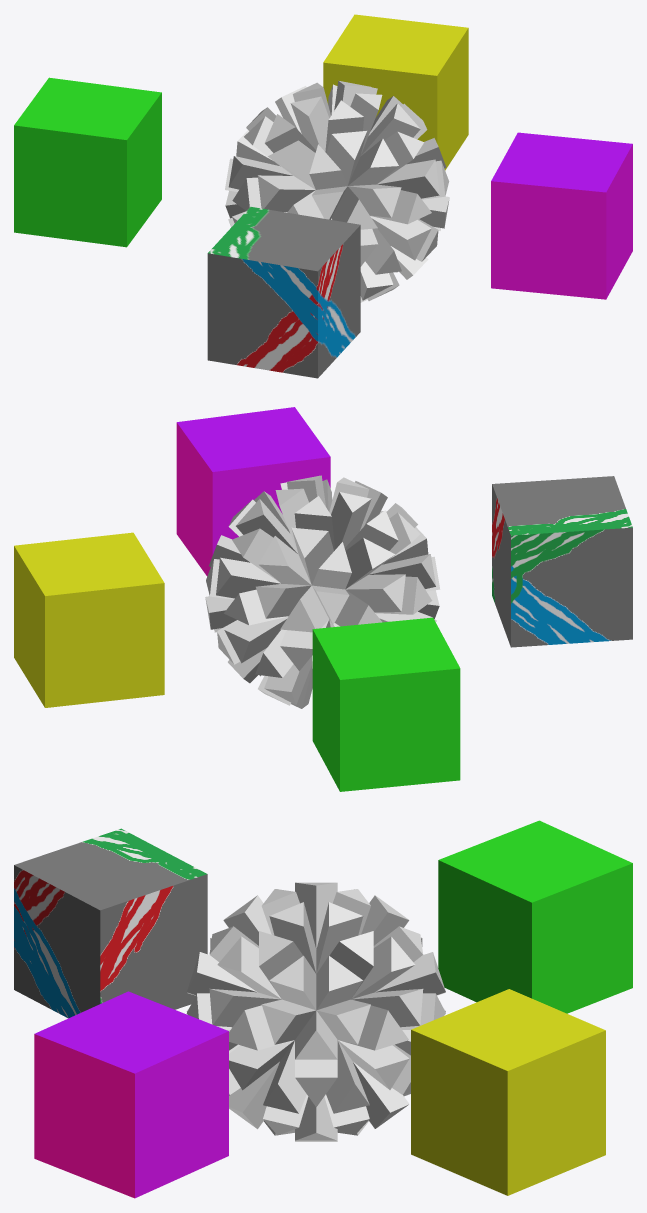
The model's file is ico3_tex.dae.
3 views of the same model, one above another, from view 1: azimuth 30°, elevation 25°; view 2: azimuth 150°, elevation 25°; view 3: azimuth 270°, elevation 25° (orthographic). The views are drawn at different scales.
Visible parts, largest first — view 1: Icosphere, Cube, Cube.001, Cube.003, Cube.002; view 2: Icosphere, Cube.002, Cube.001, Cube, Cube.003; view 3: Icosphere, Cube.003, Cube.002, Cube.001, Cube.
Part boxes in pixels (box(x1,y1,x2,y2)): Icosphere: box(225, 80, 449, 302); Cube: box(207, 206, 360, 378); Cube.001: box(14, 77, 161, 247); Cube.003: box(491, 132, 632, 299); Cube.002: box(323, 14, 468, 170); Icosphere: box(205, 475, 440, 708); Cube.002: box(14, 532, 164, 707); Cube.001: box(312, 617, 460, 791); Cube: box(492, 476, 632, 647); Cube.003: box(176, 407, 330, 576); Icosphere: box(186, 882, 445, 1141); Cube.003: box(34, 991, 228, 1198); Cube.002: box(411, 989, 605, 1195); Cube.001: box(438, 820, 632, 1013); Cube: box(14, 828, 207, 1018).
Bounding box in the file's own units: 8.7 × 8.99 × 3.77.
Materials: 5 (1 with a texture image).
